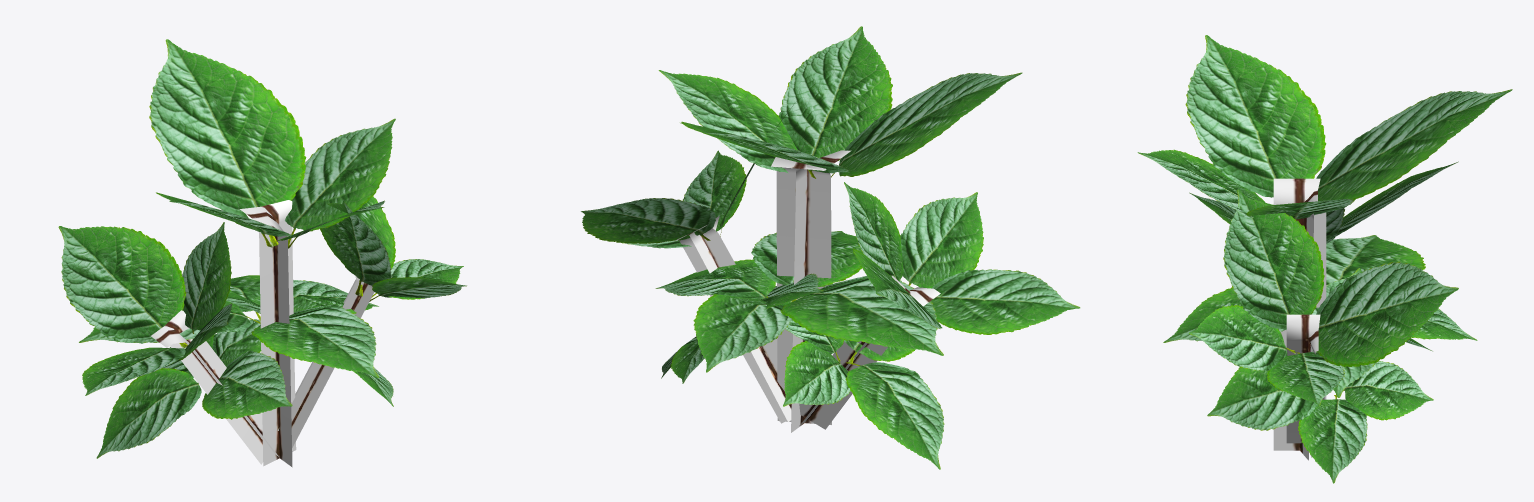
File: MyPlant.fbx
The picture shows the model from 3 angles, left to right: view 1: azimuth 30°, elevation 25°; view 2: azimuth 150°, elevation 25°; view 3: azimuth 270°, elevation 25°; orthographic projection. The views are drawn at different scales.
Parts seen in each view (by area): view 1: Plant; view 2: Plant; view 3: Plant.
Boxes of the visible parts, x1,y1,x2,y2 form: Plant: (58, 39, 466, 467); Plant: (581, 26, 1080, 469); Plant: (1137, 35, 1512, 483).
Size of the model in its own units: 15.2 by 11.29 by 11.33.
Materials: 2 (2 with a texture image).
